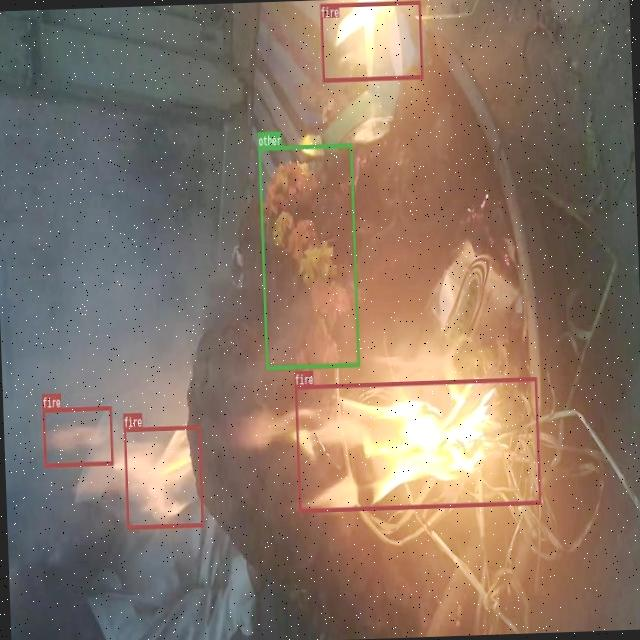fire: (294, 376, 540, 511), (122, 424, 204, 529), (319, 0, 422, 81), (42, 404, 112, 466)
